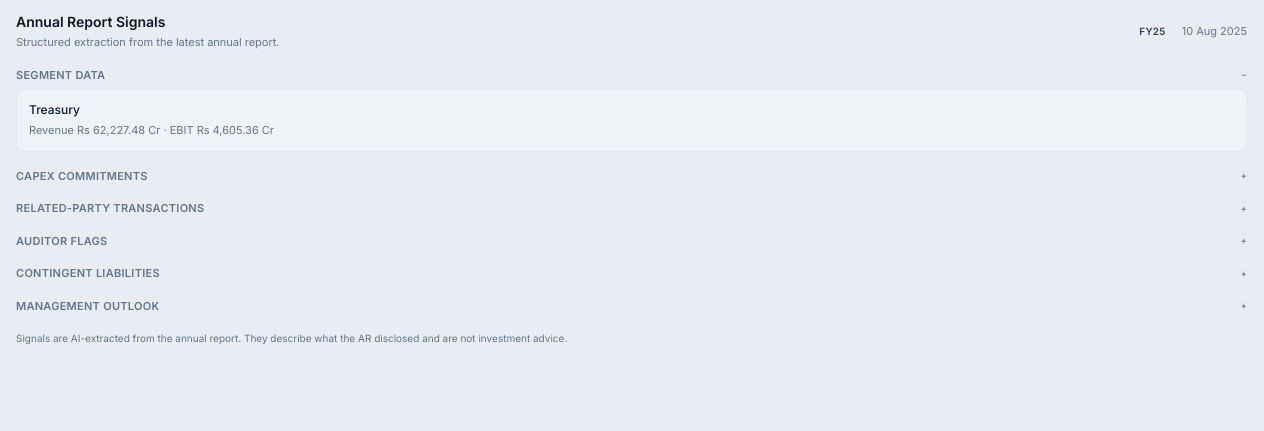
Test: ARSignalsPanel — original six sub-panels › renders capex `description` as the row title alongside the amount
The width and height of the screenshot is (1264, 431).
Click the button "Capex commitments +": (82,176) [16,168,1247,184]
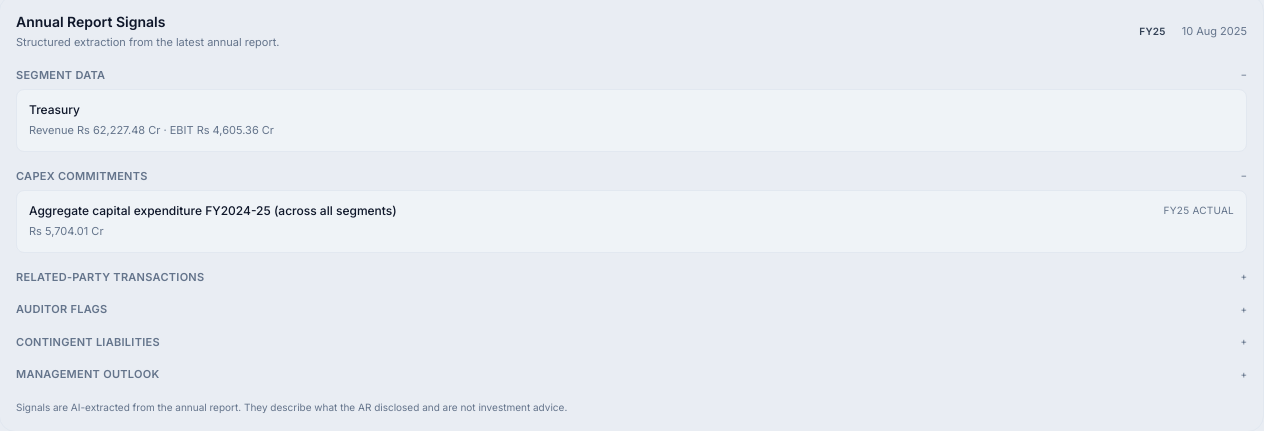
Now the element with test id "ar-section-capex" shows "Aggregate capital expenditure FY2024-25", box [29,203,397,218]
Now the element with test id "ar-section-capex" shows "Rs 5,704.01 Cr", box [29,224,104,238]
Now the element with test id "ar-section-capex" shows "FY25 actual", box [1164,204,1234,216]
